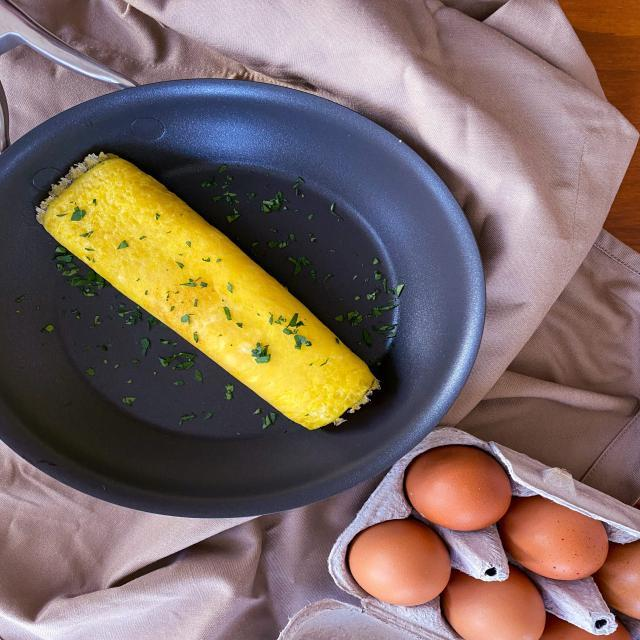telur_ayam_dadar: (35, 151, 382, 432)
